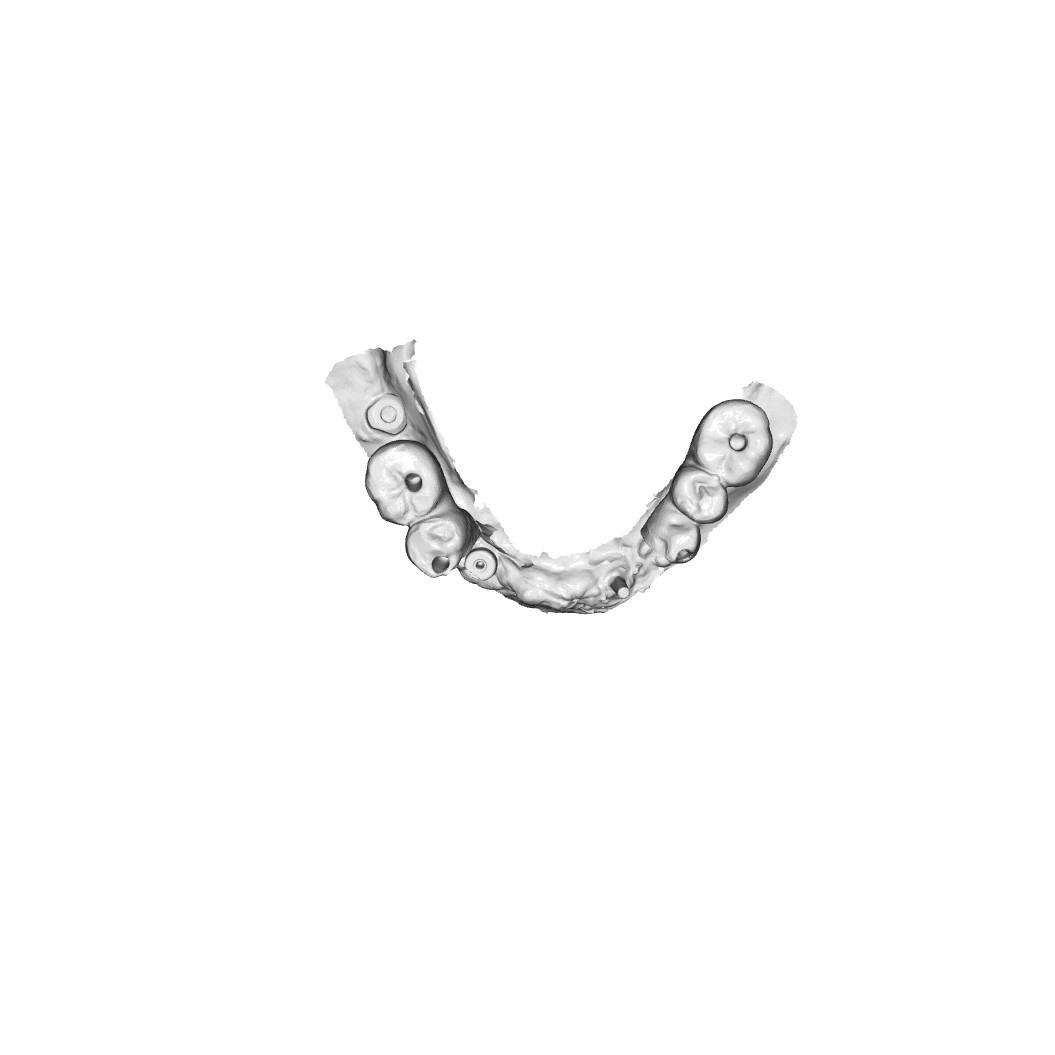abutment: (605, 561, 632, 610)
canine: (650, 504, 706, 576)
implant: (365, 390, 409, 437), (459, 542, 496, 584)
molar: (693, 401, 769, 488), (360, 445, 447, 520)
premolar: (405, 515, 469, 575), (675, 468, 732, 520)
